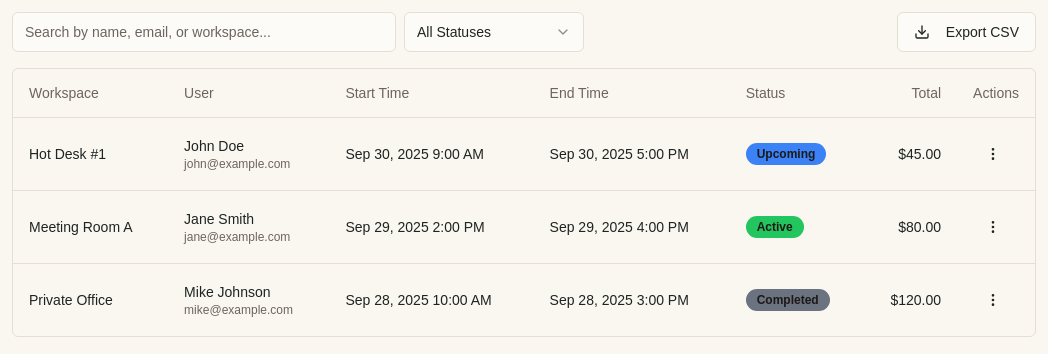
Scenario: BookingsList › shows empty state when no bookings match filters
Step 1. Type "nonexistent" into the field with placeholder "Search by name, email, or workspace..." → (204, 32), box [12,12,396,52]
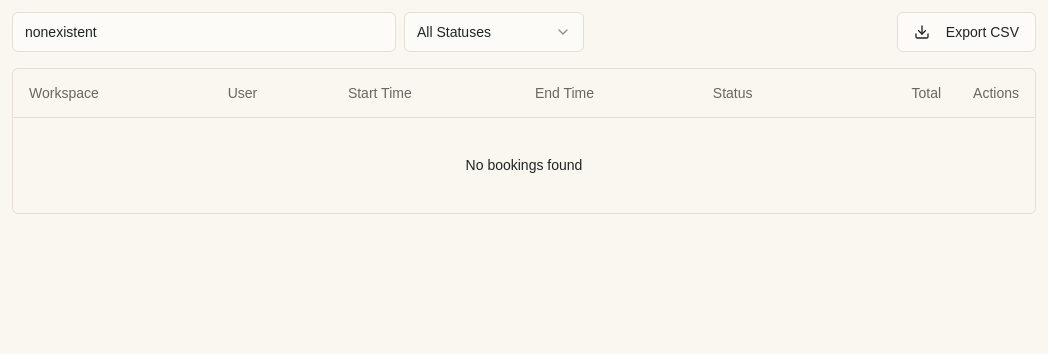
Check: the text "No bookings found" is shown, box [13,117,1035,213]
